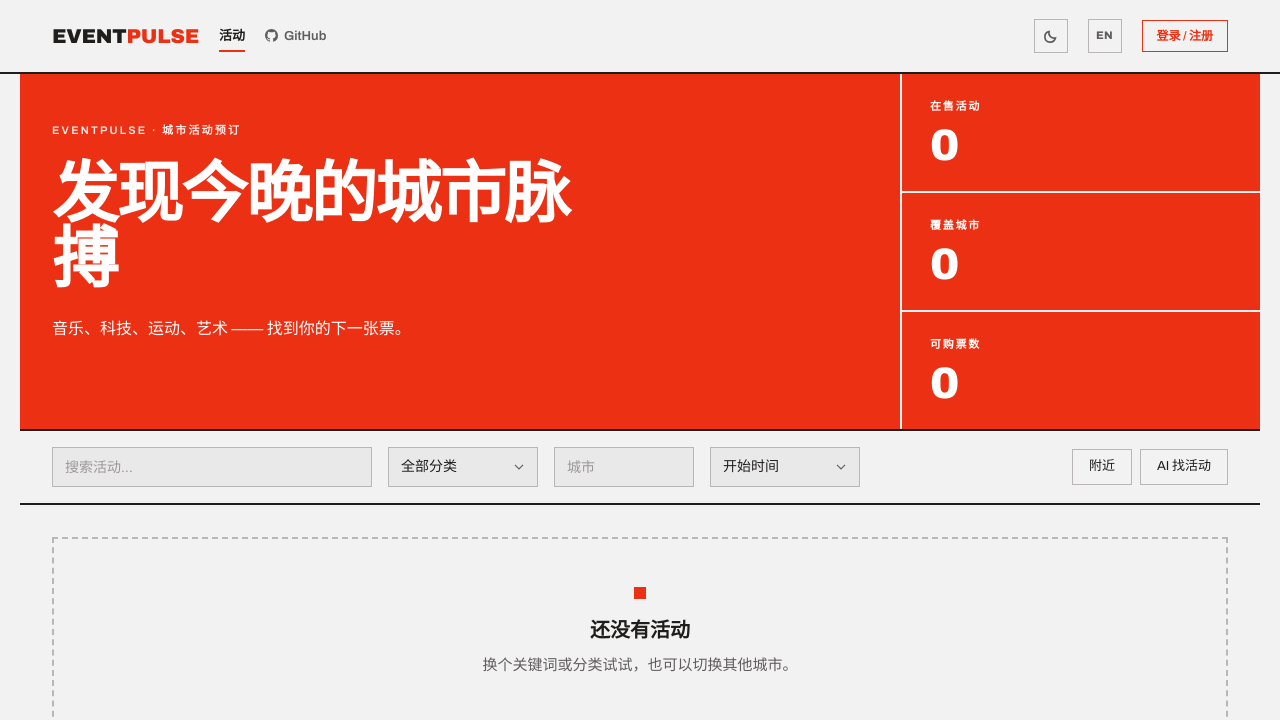
Test: TopBar › toggles the UI language and persists the choice
Expected: the link "活动" is shown, [219,22,245,50]
Click the button with aria-label "切换到英文" at x=1105, y=36, box [1088,19,1122,53]
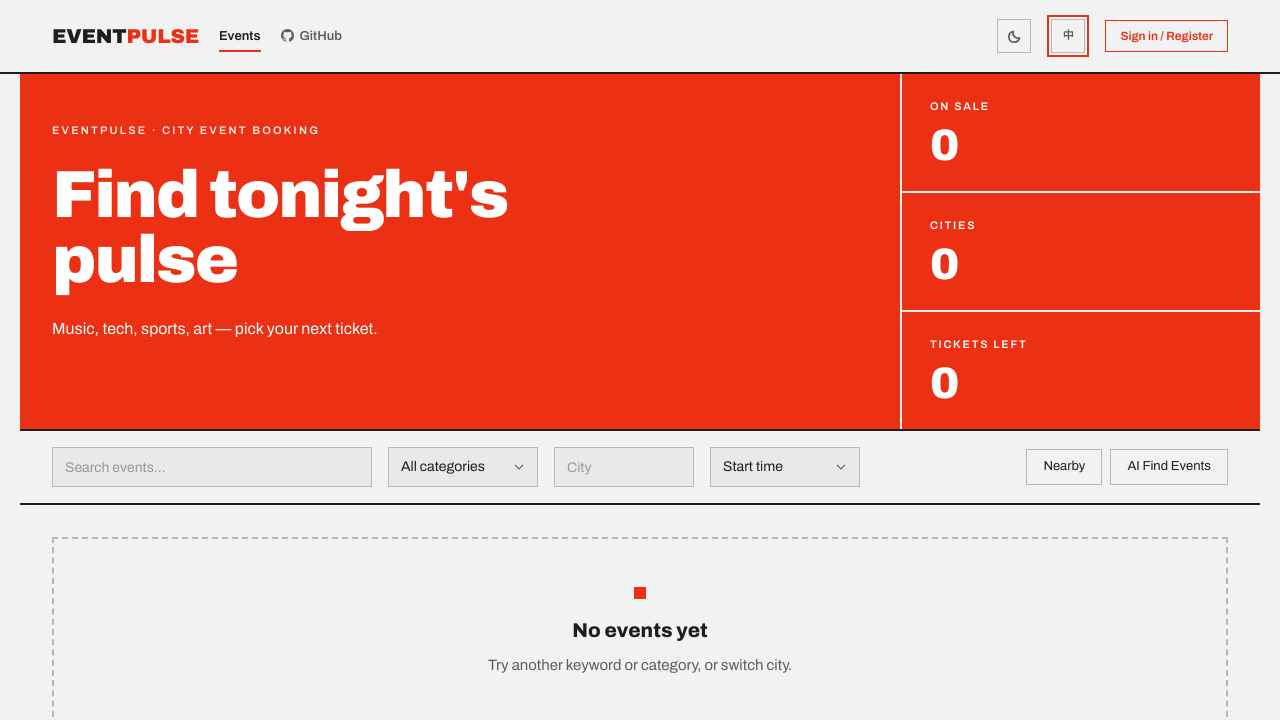
Result: the link "Events" is shown at [219,22,260,50]
Click the button named "切换到中文" at x=1068, y=36, box [1051,19,1085,53]
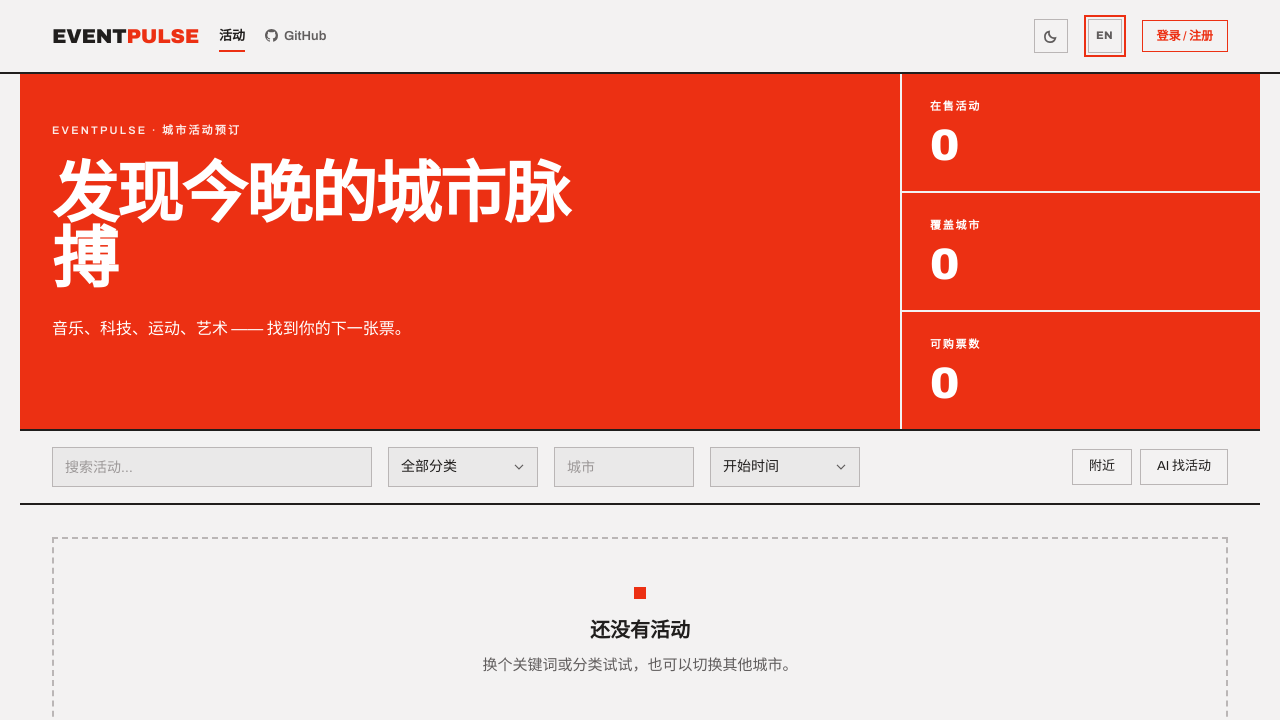
Result: the link "活动" is shown at [219,22,245,50]
